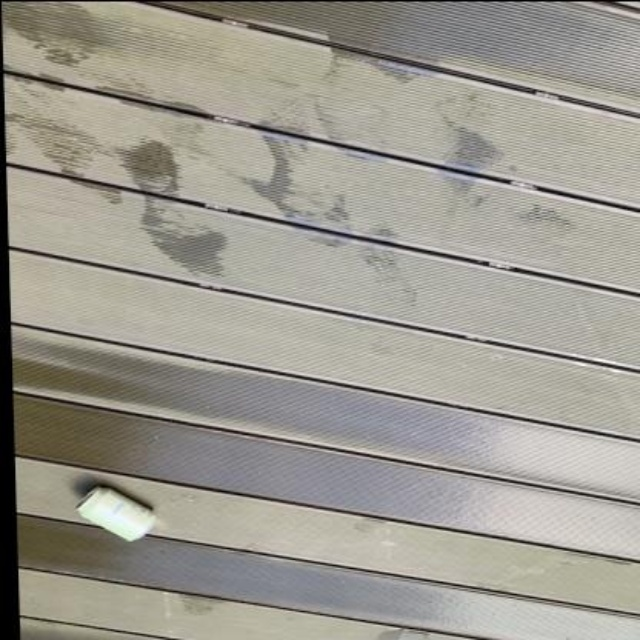trash: (77, 486, 155, 540)
